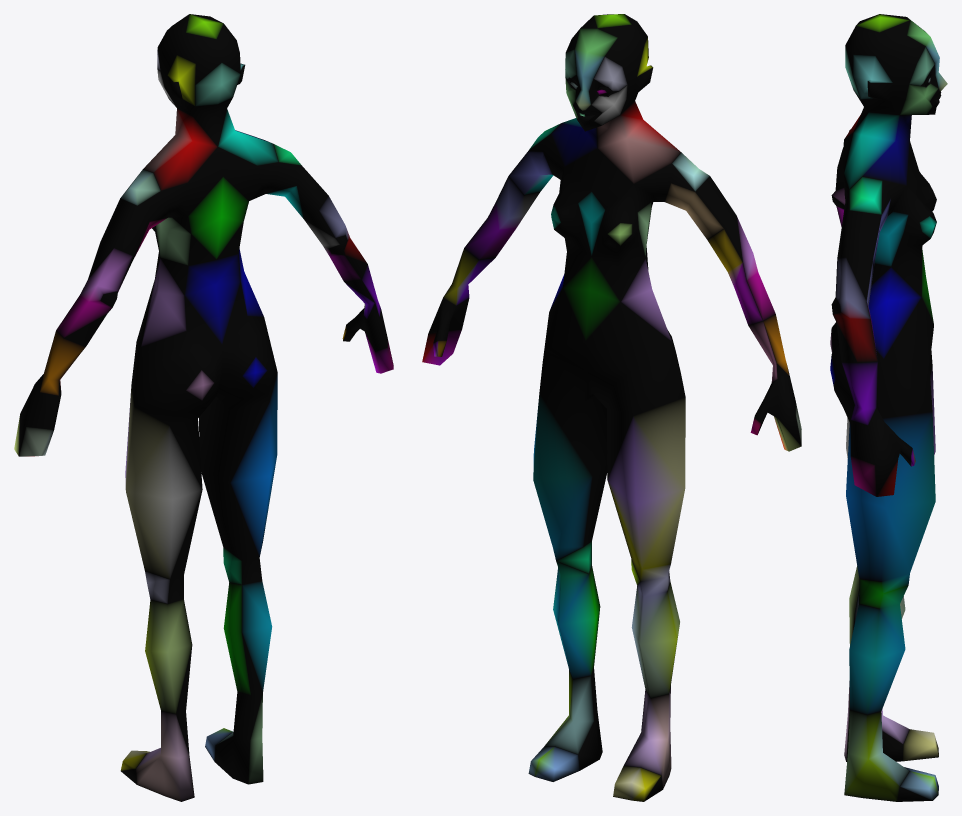
Rendered from fembody.glb.
3 renders of one model, left to right at view 1: azimuth 30°, elevation 25°; view 2: azimuth 150°, elevation 25°; view 3: azimuth 270°, elevation 25°, orthographic.
Visible parts, largest first — view 1: Body; view 2: Body; view 3: Body.
Boxes of the visible parts, <box> form: Body: <box>14,14,393,801</box>; Body: <box>422,14,801,801</box>; Body: <box>830,14,947,801</box>.
Size of the model in its own units: 0.8054 by 1.55 by 0.2187.
